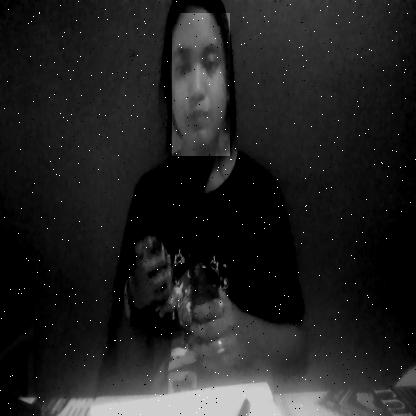Normal: (172, 13, 230, 156)
